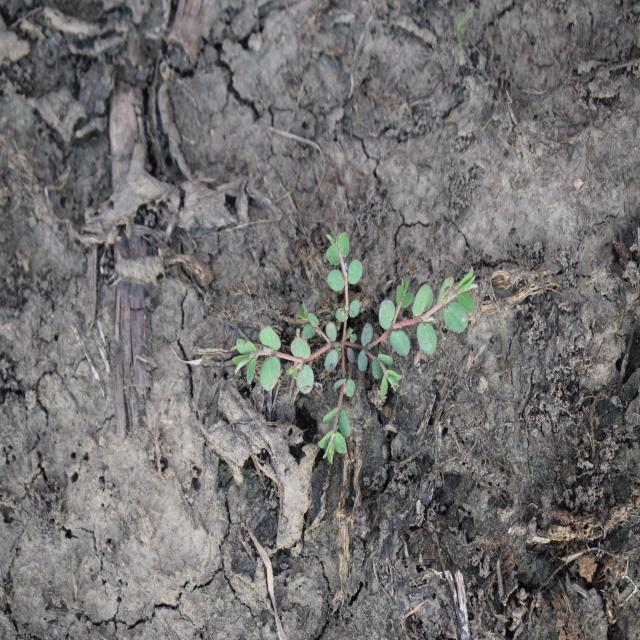SpottedSpurge: (230, 226, 480, 468)
